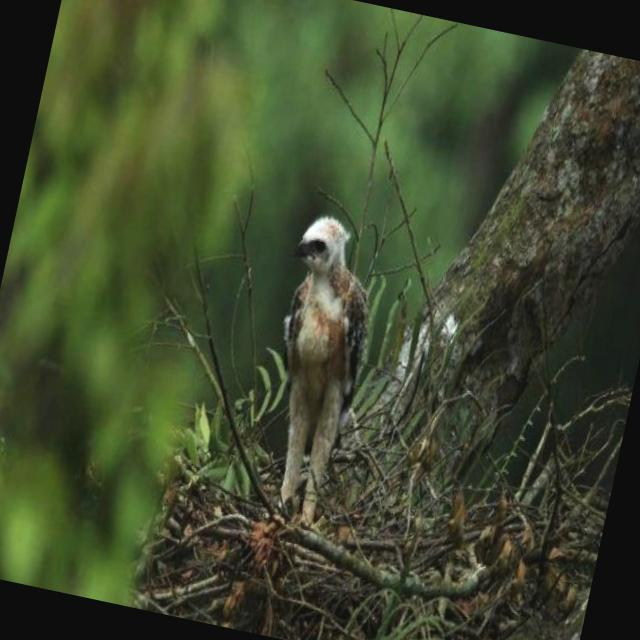Elang Jawa: (226, 179, 418, 556)
